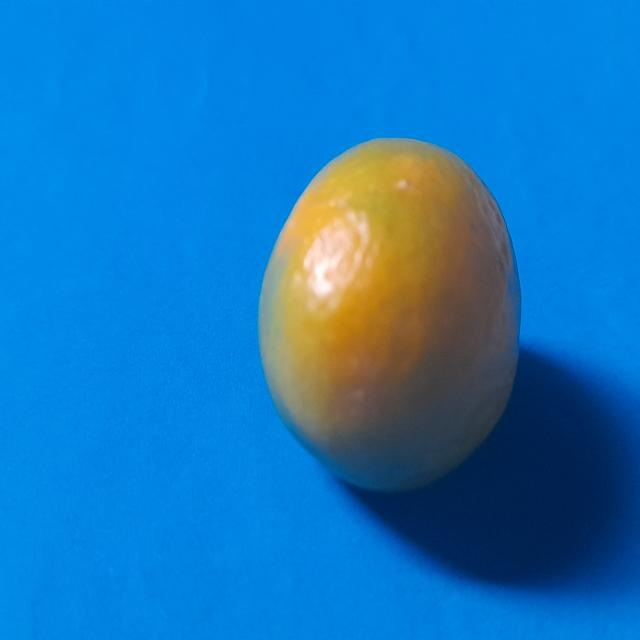greening: (246, 119, 528, 497)
